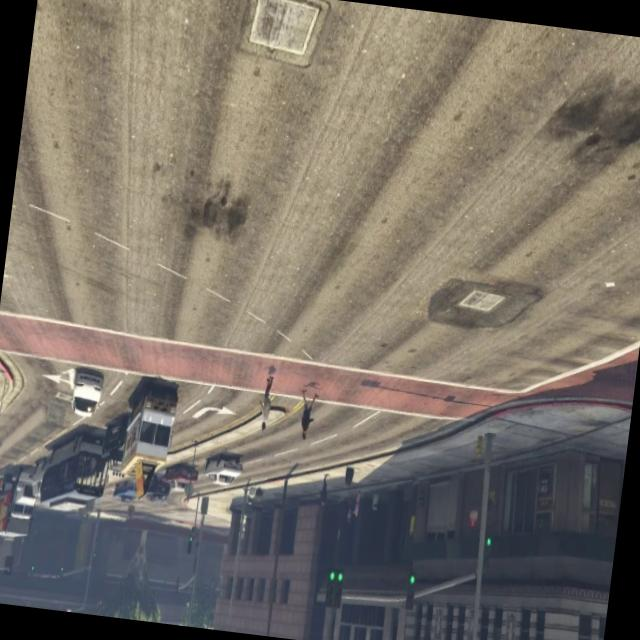Green-Signal: (318, 556, 352, 617), (401, 564, 421, 618), (478, 527, 499, 577)
